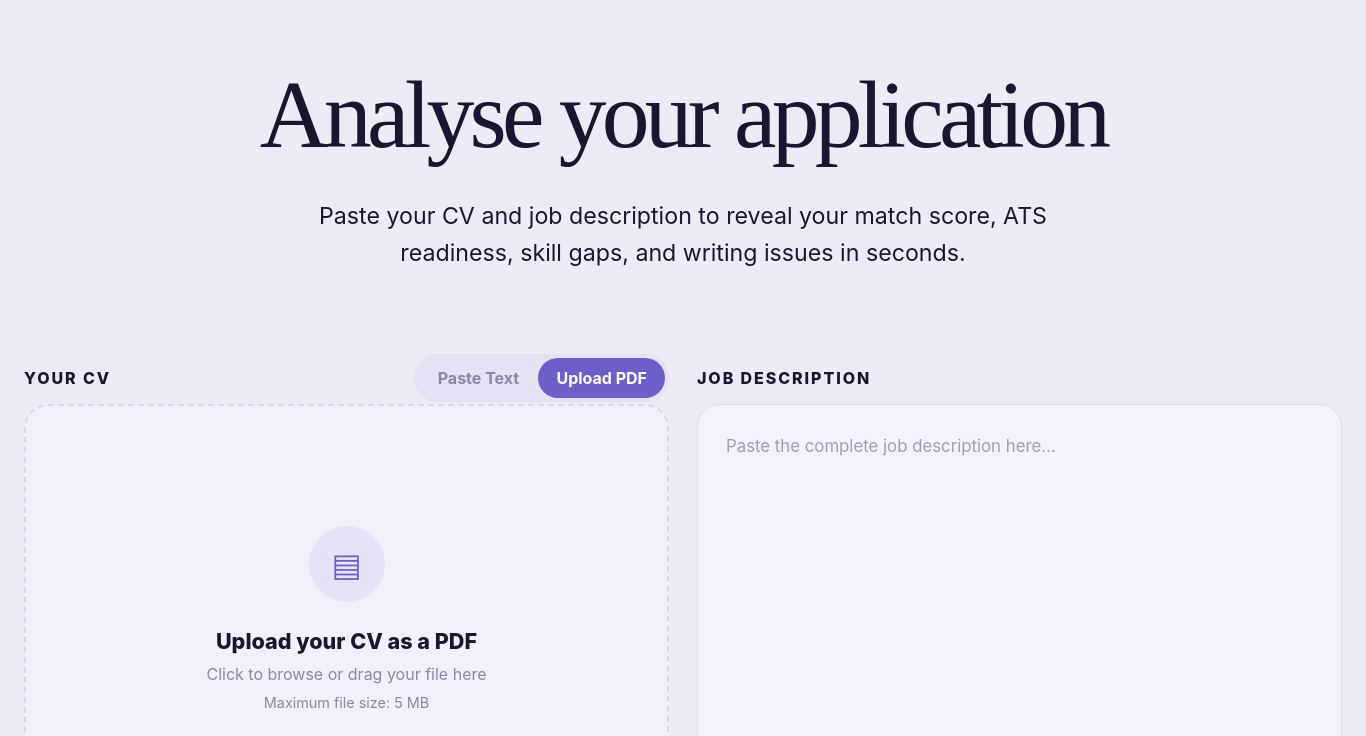
Scenario: App › shows a structured CV parser failure message
Click the button "Paste Text" at (478, 378), box [418,358,538,398]
(page scrolled)
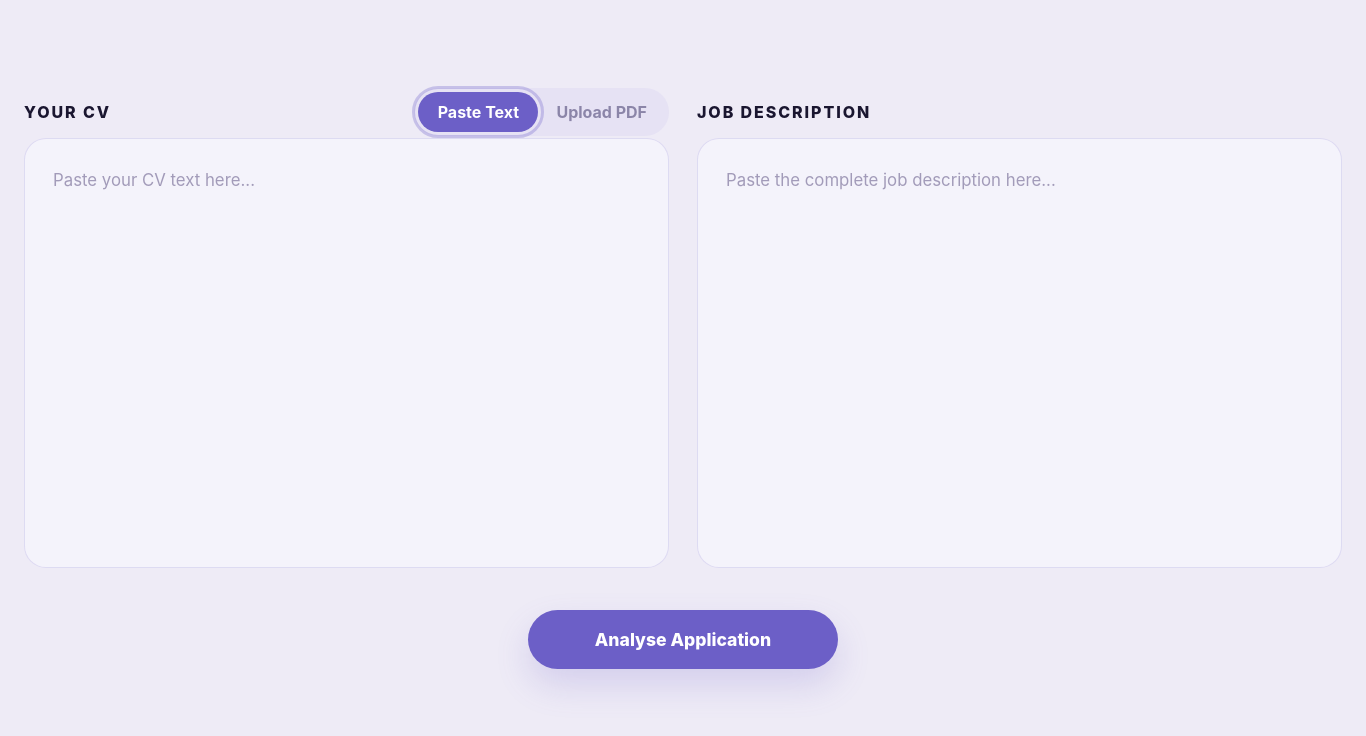
Type "Software Engineering graduate with React, TypeScript, FastAPI and PostgreSQL experience." into the text box labelled "Paste your CV text here..." at (346, 353), box [24,138,669,568]
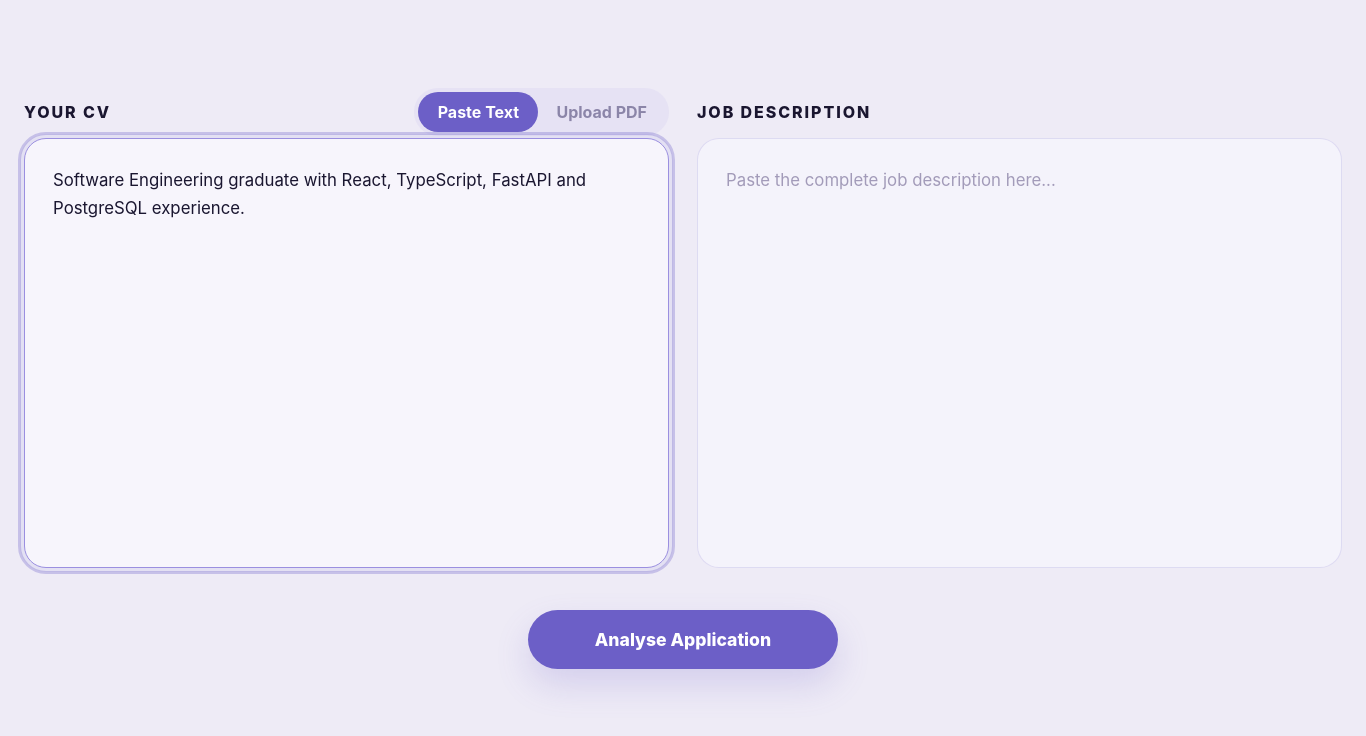
Type "We are hiring a Junior Full-Stack Developer with React, TypeScript and FastAPI experience." into the text box labelled "Paste the complete job description here..." at (1020, 353), box [697,138,1342,568]
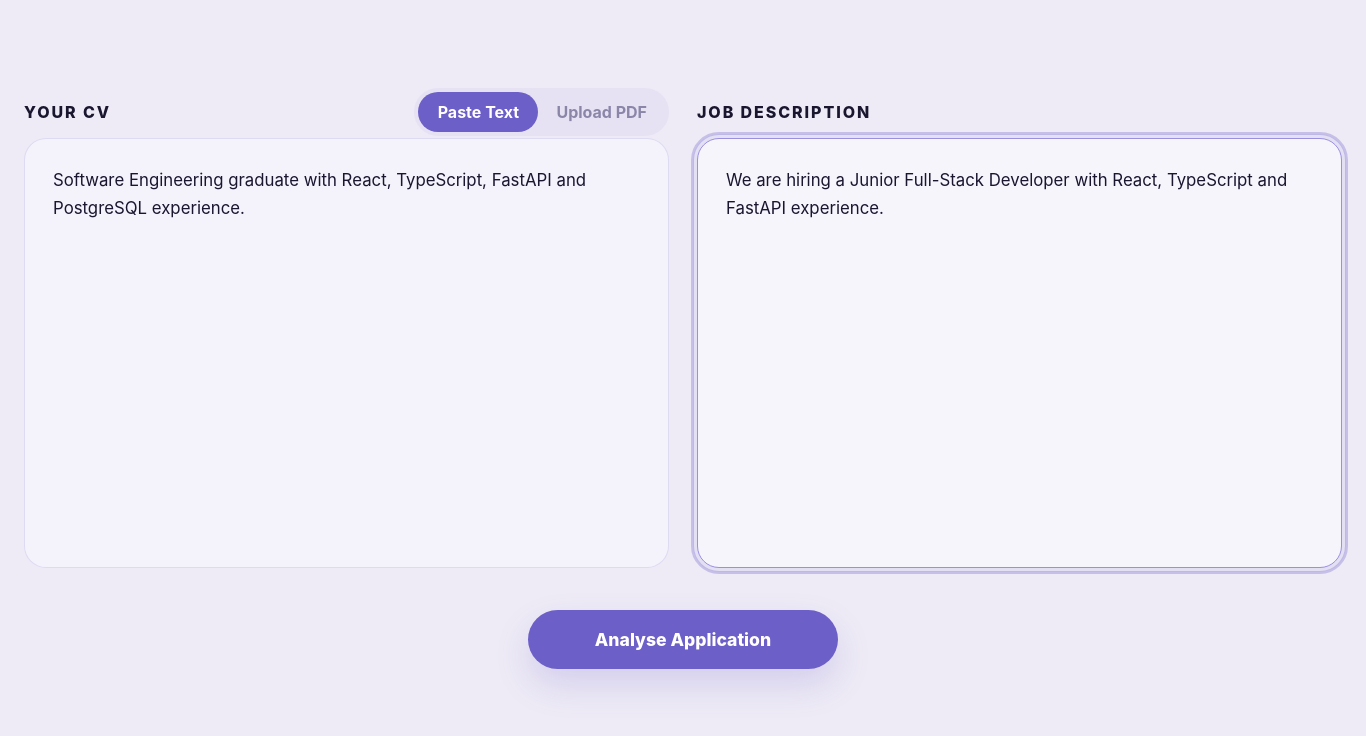
Click the button "Analyse Application" at (683, 639), box [528,610,838,669]
(page scrolled)
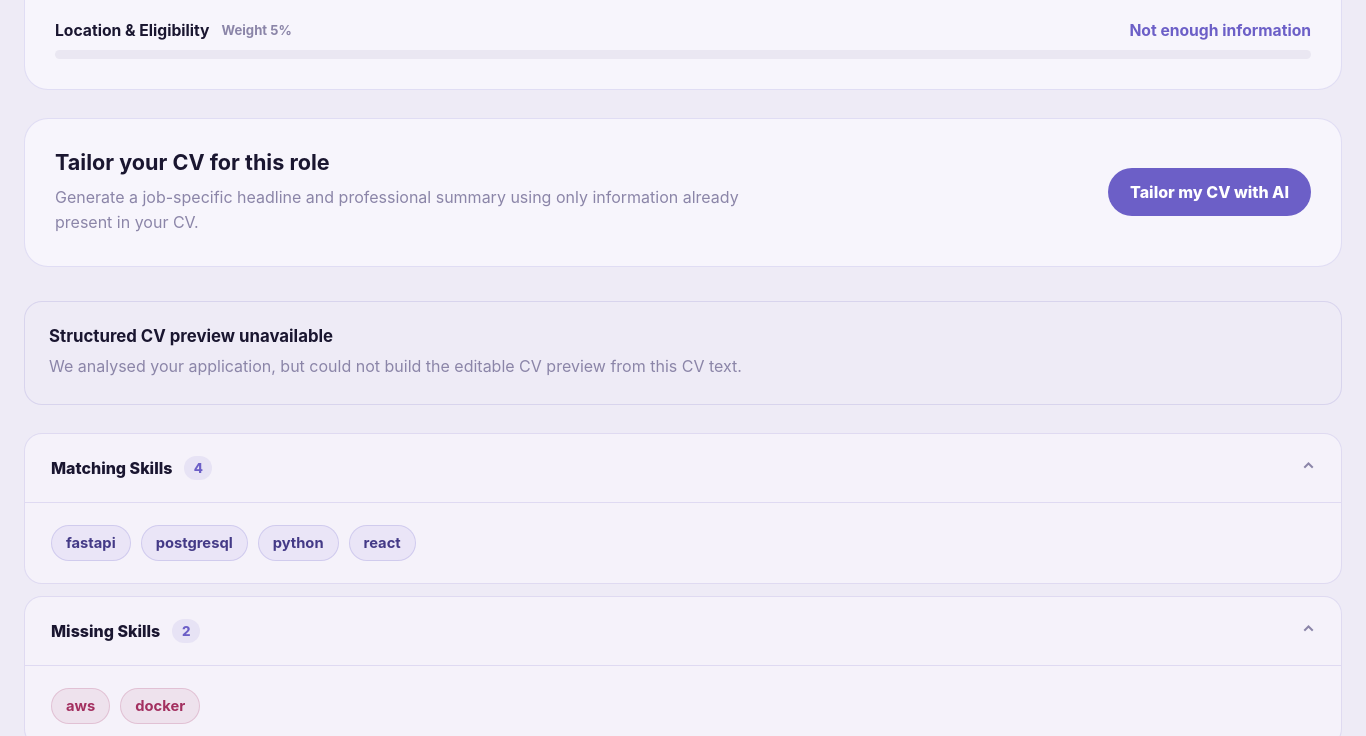
Result: the message shows "We analysed your application, but could not build the editable CV preview from this CV text." at [49,356,742,376]
